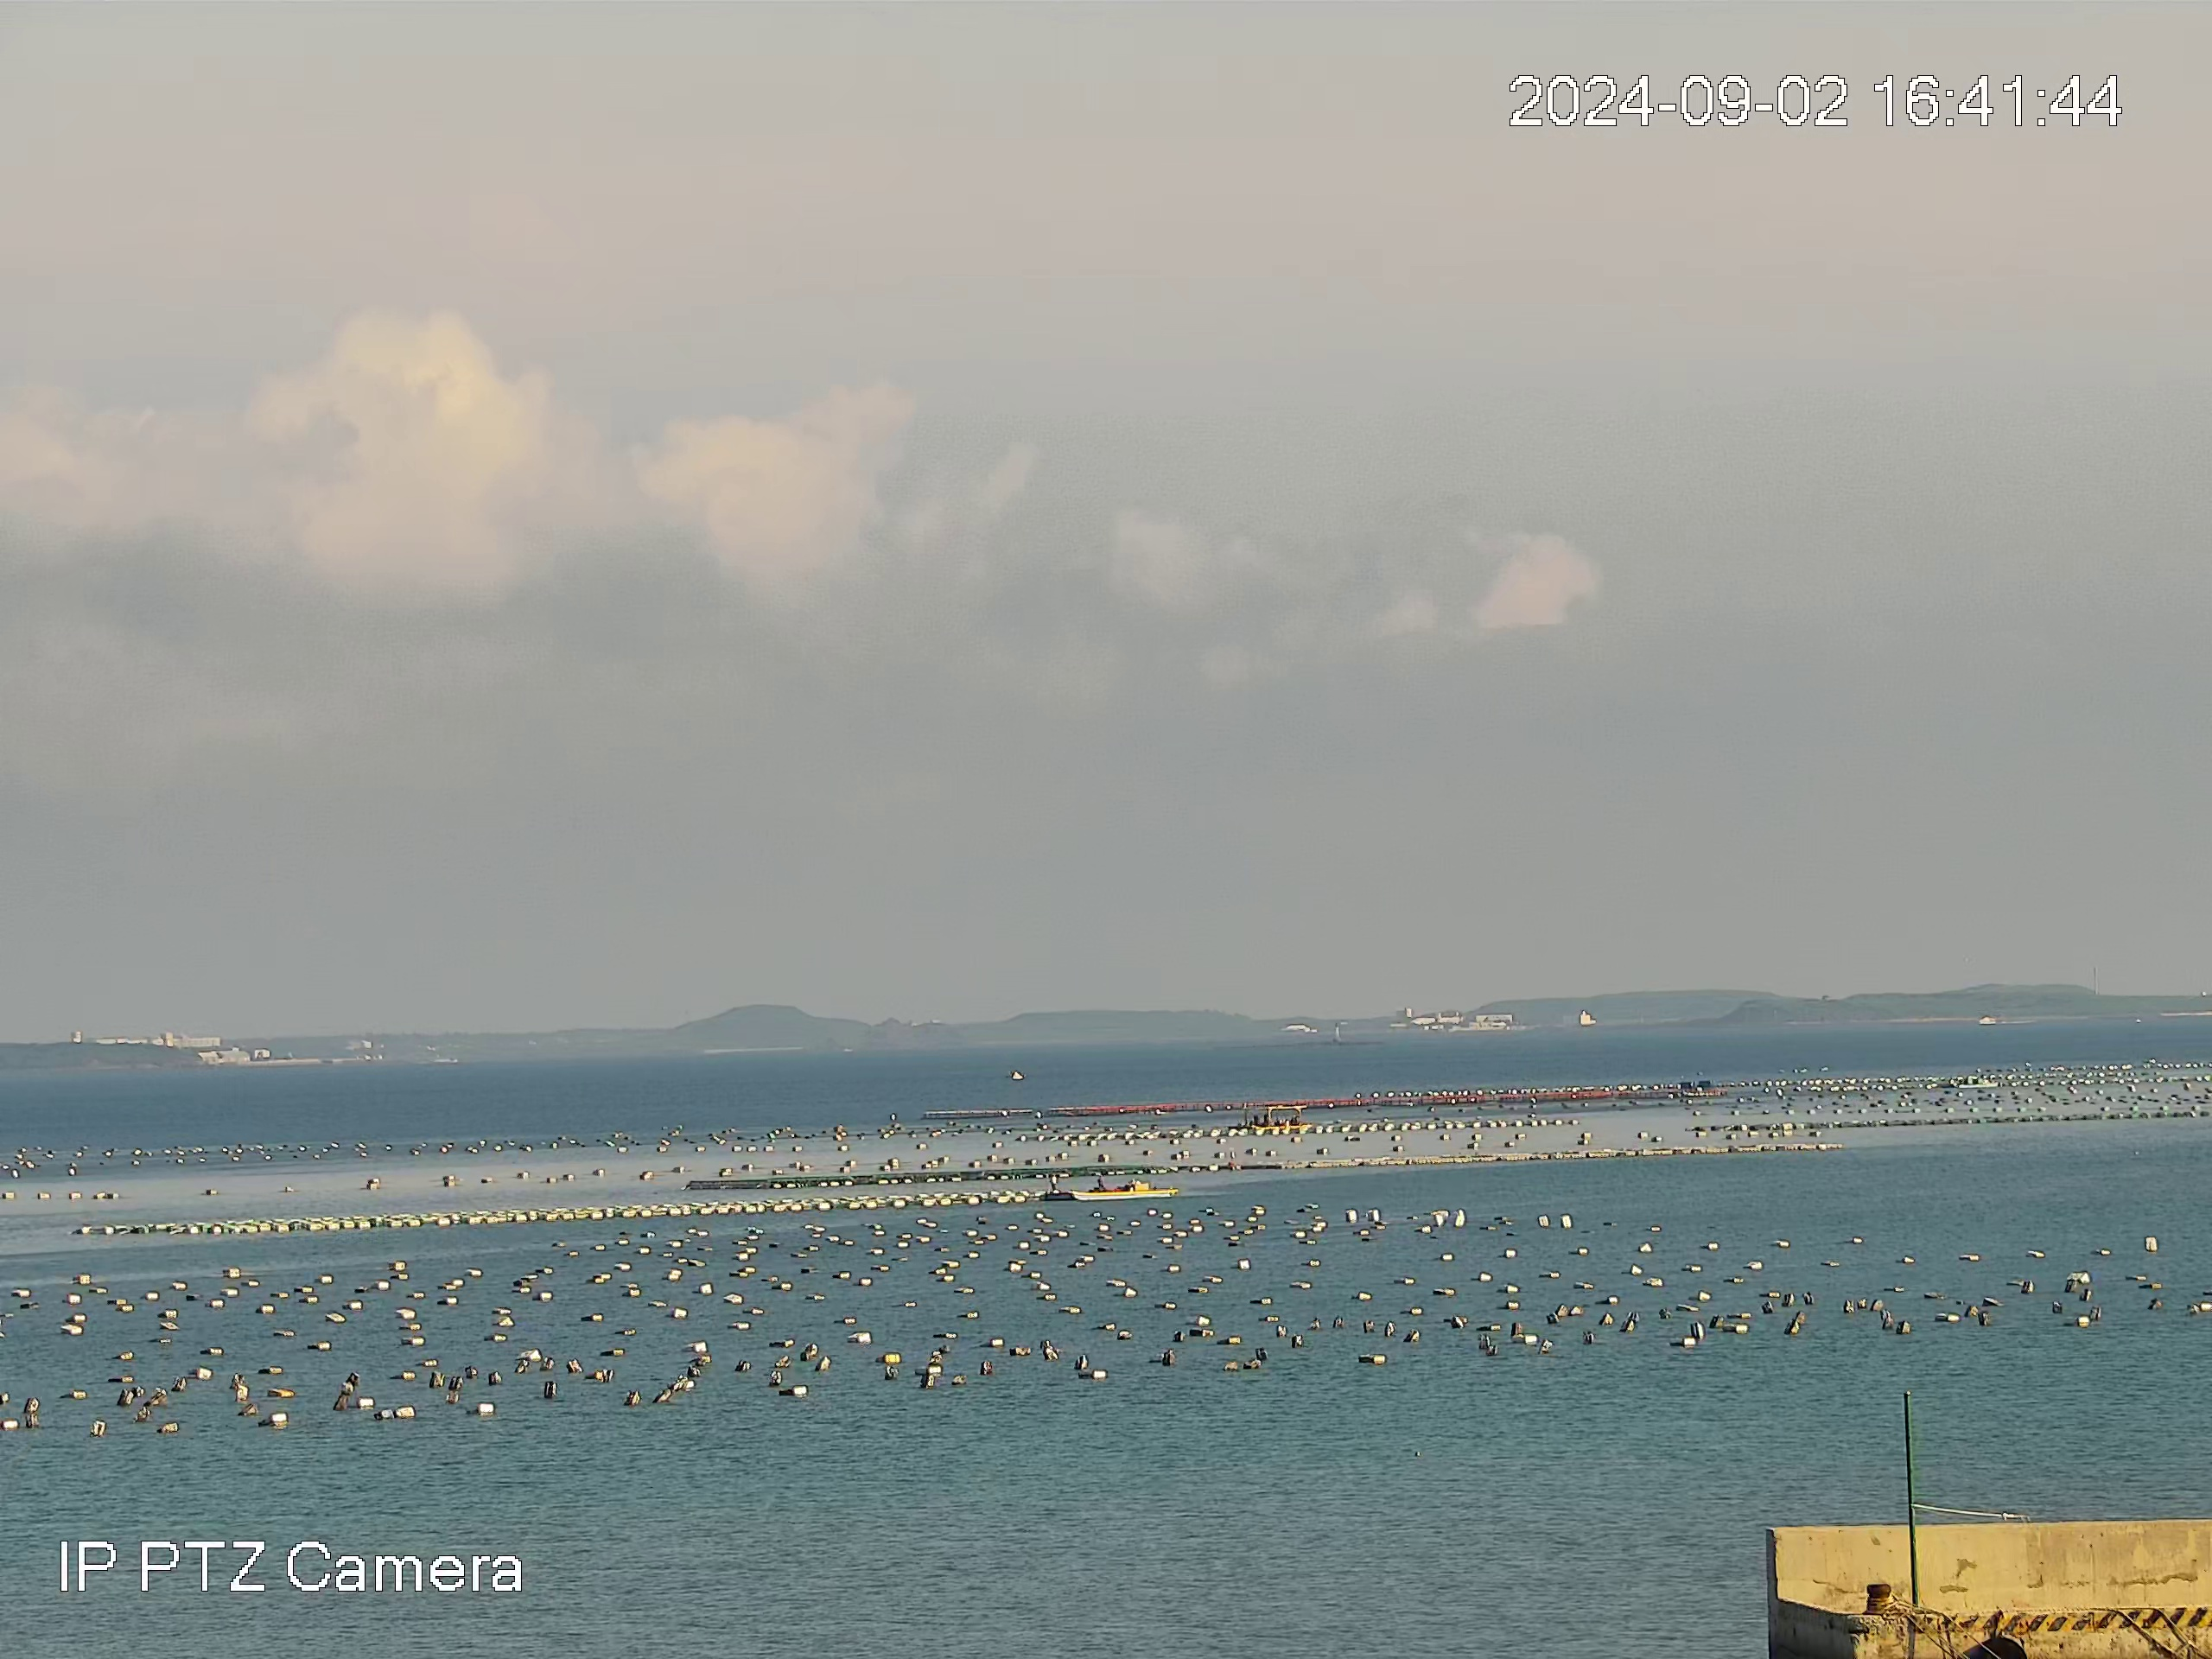boat: (1038, 1171, 1179, 1202), (1242, 1101, 1312, 1131), (1956, 1073, 2000, 1089)
